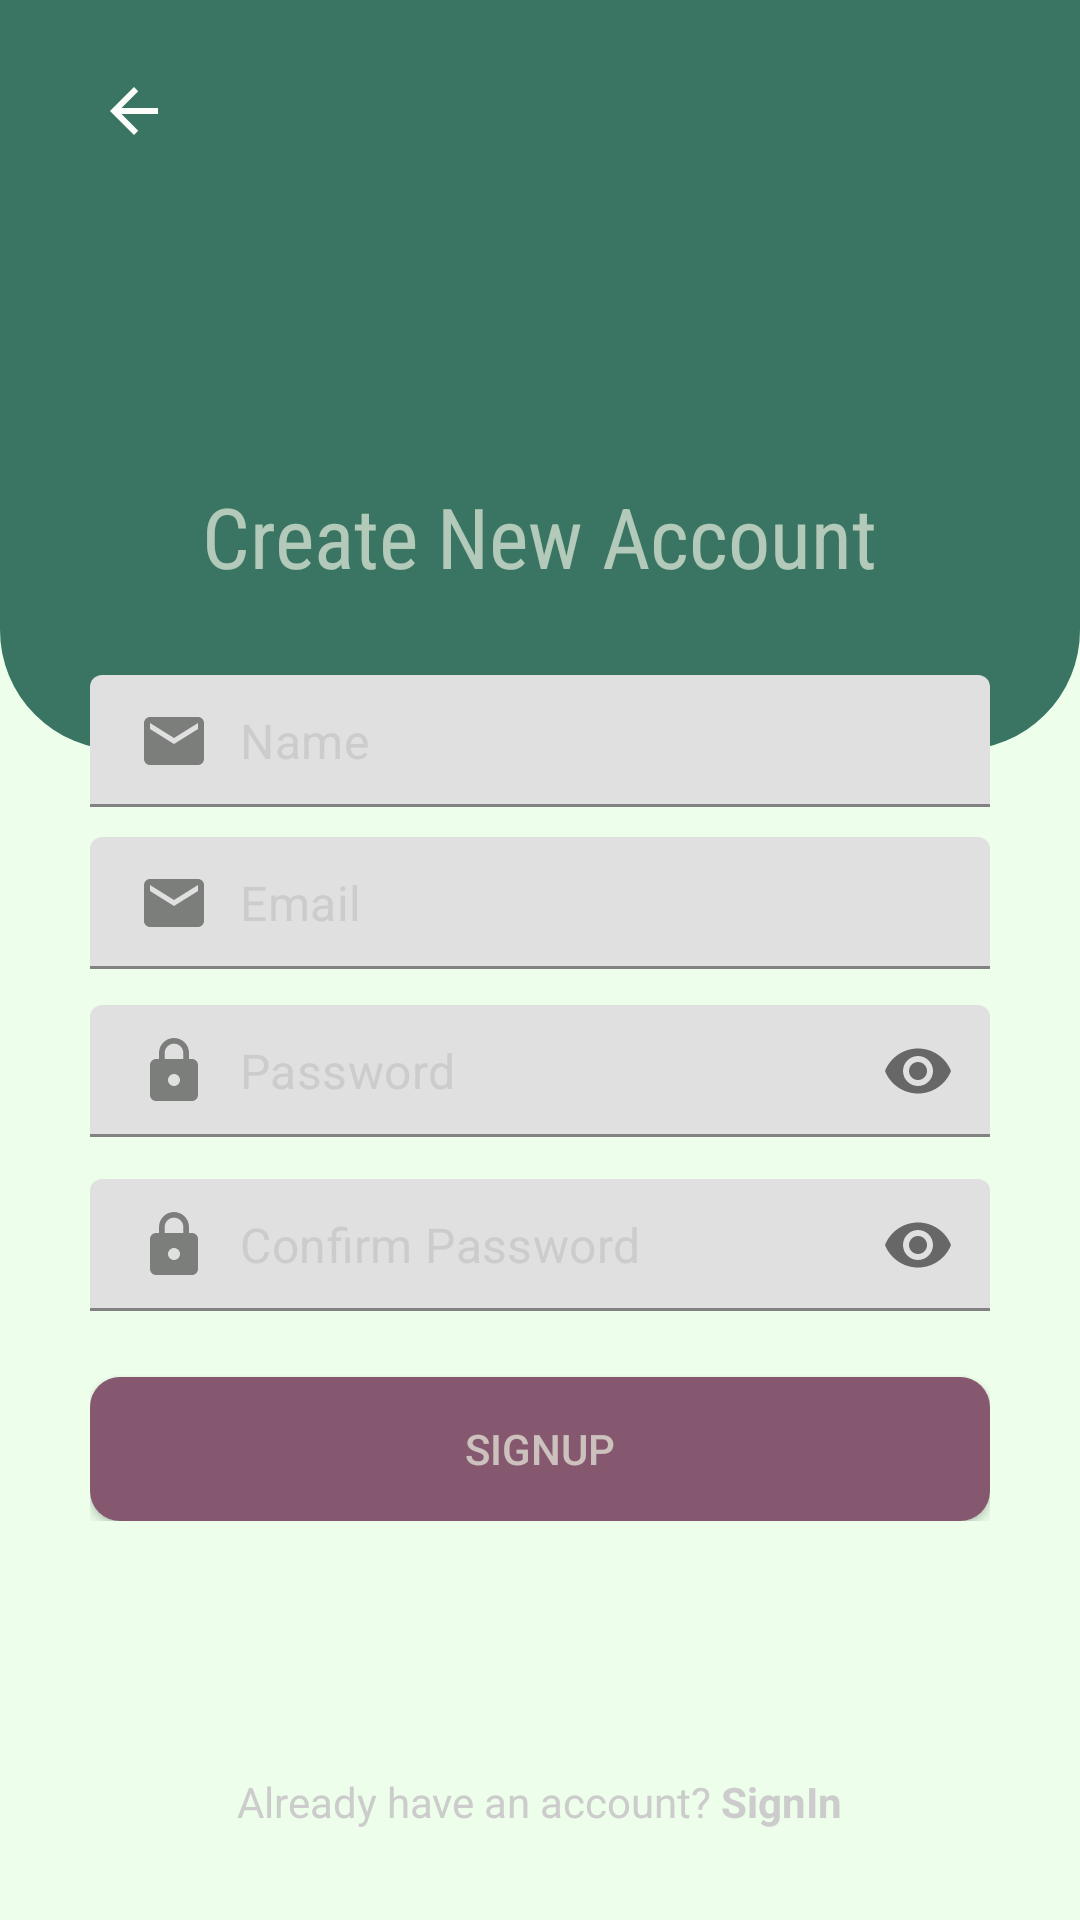

Screen size 1080w x 1920h. Icon name, then its box in pixels as [x1,y1,x2,y2]:
arrowback: [110,87,158,135]
